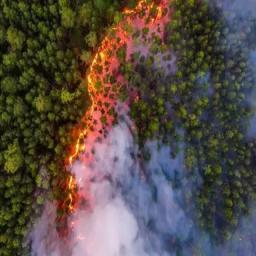Heavy smoke: (23, 0, 256, 255)
Large fire: (52, 0, 189, 241)
